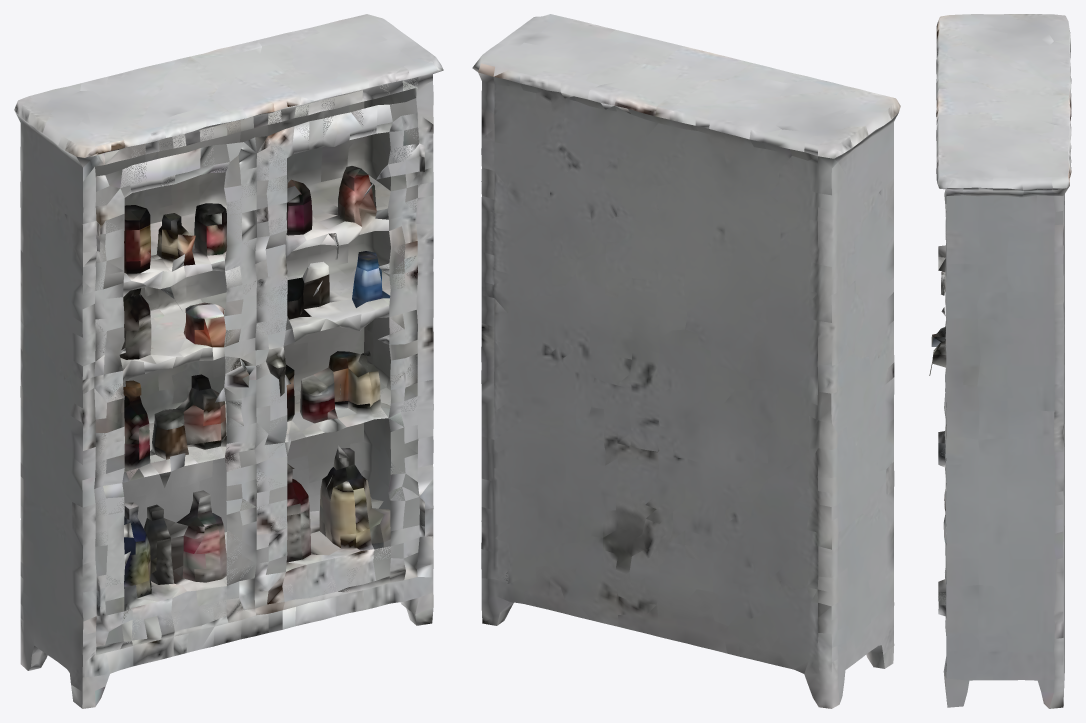
The model's file is armario_medicinas.glb.
3 renders of one model, left to right at view 1: azimuth 30°, elevation 25°; view 2: azimuth 150°, elevation 25°; view 3: azimuth 270°, elevation 25°, orthographic. The views are drawn at different scales.
Size of the model in its own units: 1.29 by 1.9 by 0.4594.
Materials: 1 (1 with a texture image).
